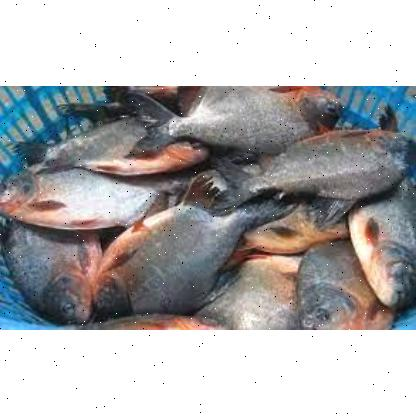ikan-pacu: (93, 202, 260, 312), (213, 129, 411, 209), (126, 85, 342, 151), (1, 216, 95, 324), (29, 116, 209, 172), (300, 238, 394, 328), (0, 170, 156, 224), (346, 199, 416, 304)
